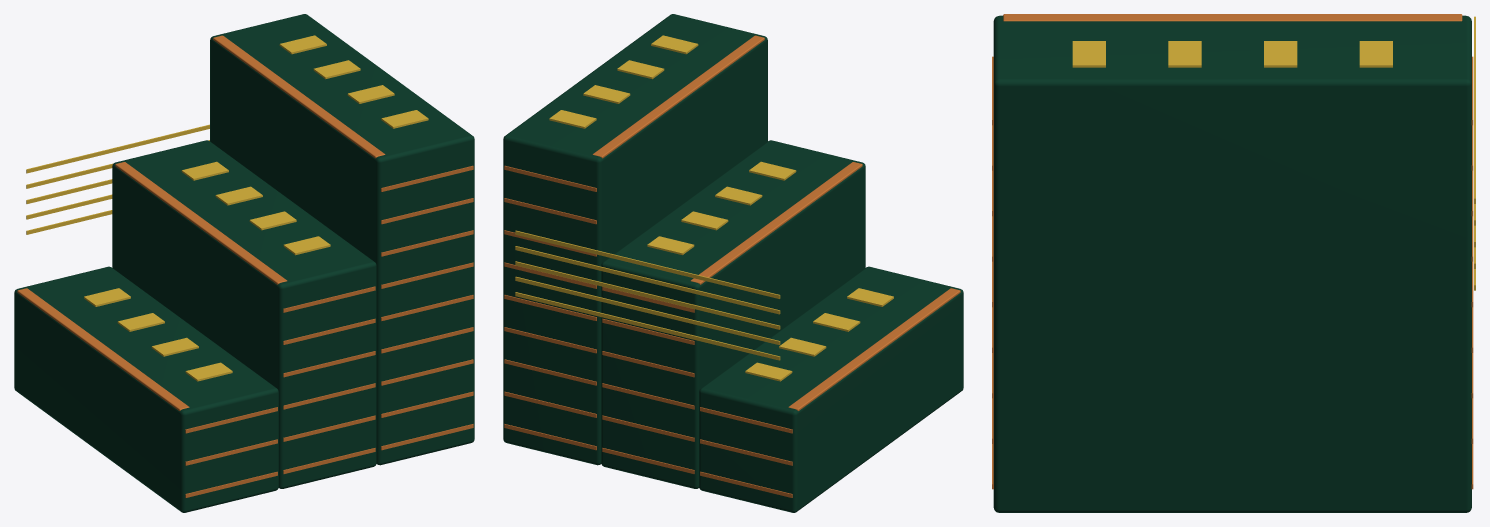
File: stairs.glb
3 renders of one model, left to right at view 1: azimuth 30°, elevation 25°; view 2: azimuth 150°, elevation 25°; view 3: azimuth 270°, elevation 25°, orthographic. The views are drawn at different scales.
Visible parts, largest first — view 1: stairs; view 2: stairs; view 3: stairs.
Boxes of the visible parts, x1,y1,x2,y2 form: stairs: [14, 14, 474, 512]; stairs: [503, 14, 963, 512]; stairs: [992, 14, 1475, 512].
Size of the model in its own units: 1 by 1.01 by 1.01.
